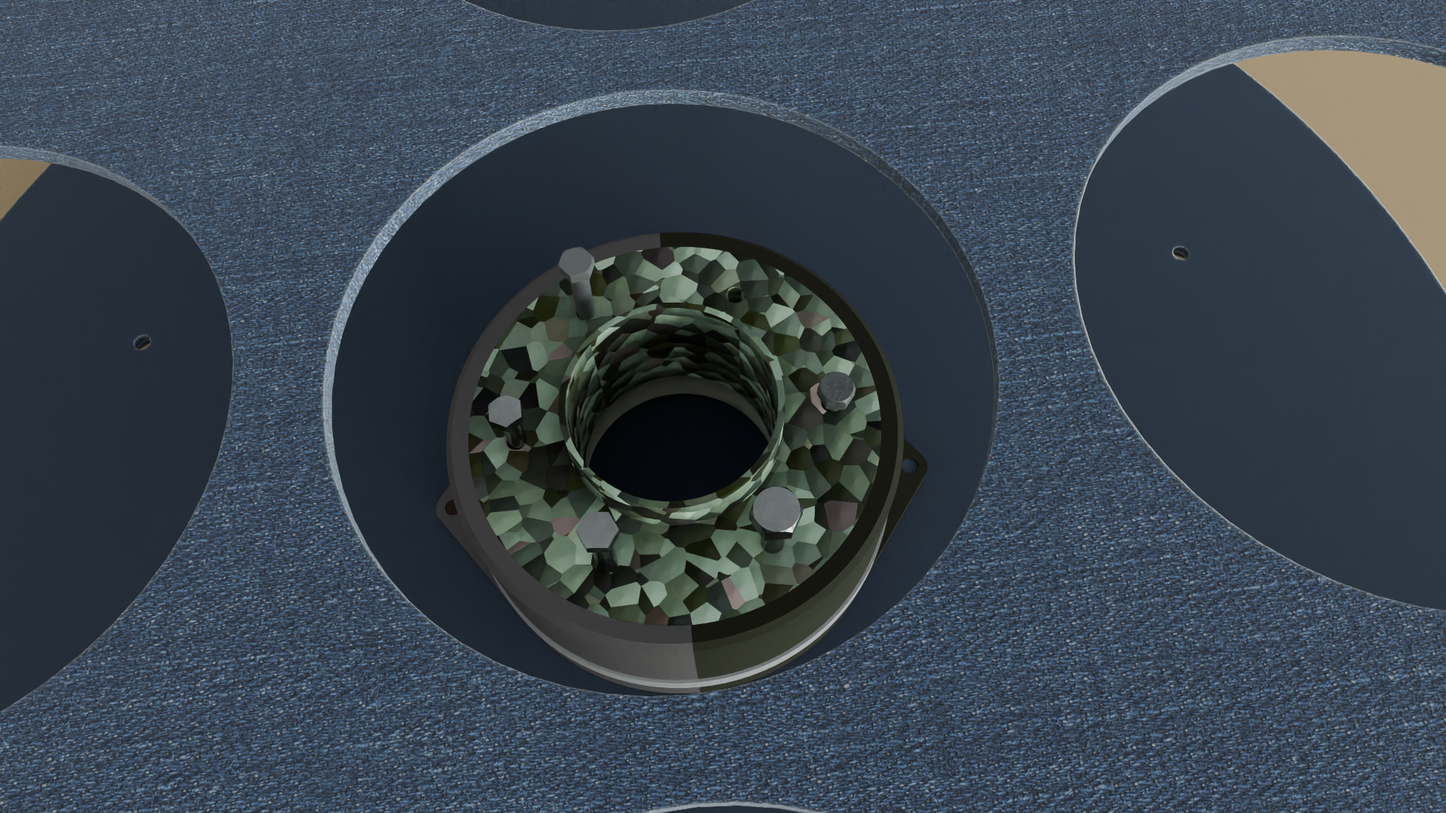bolt: (749, 486, 804, 534), (576, 512, 619, 549), (818, 372, 856, 403), (488, 394, 522, 428), (558, 247, 593, 277)
